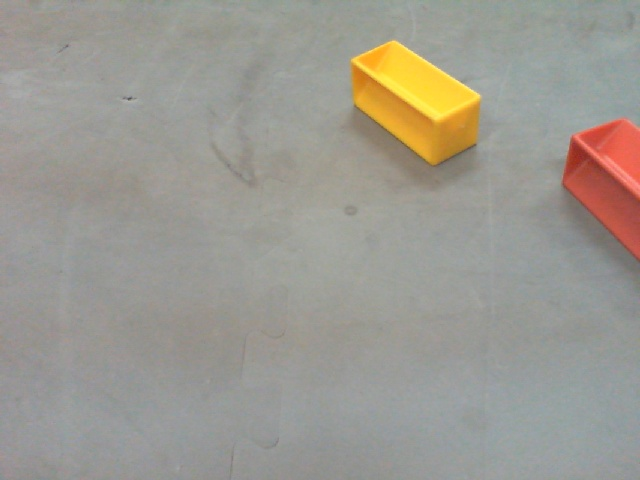RedSample: (560, 119, 640, 260)
YellowSample: (356, 39, 479, 165)
